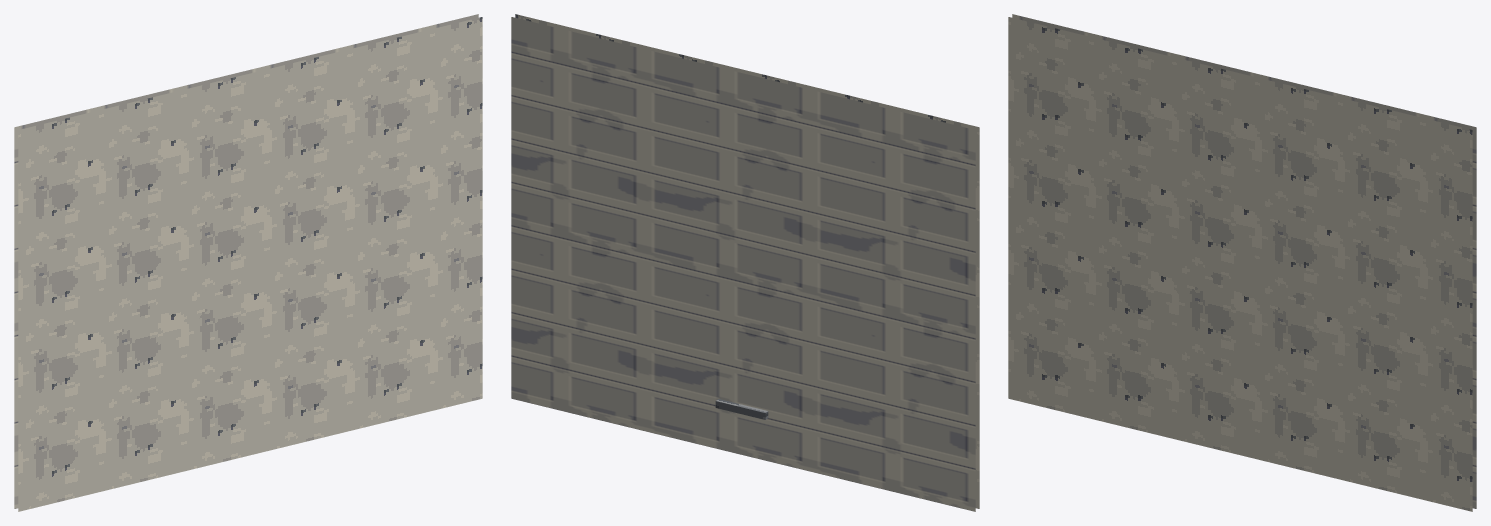
The model's file is RES_IP_GarageDoor_Sectional.obj.
The picture shows the model from 3 angles, left to right: view 1: azimuth 30°, elevation 25°; view 2: azimuth 150°, elevation 25°; view 3: azimuth 330°, elevation 25°; orthographic projection.
Parts seen in each view (by area): view 1: INT_GarageDoor_M_Town_PaintWhite, INT_GarageDoor_M_Res_GarageDoor; view 2: INT_GarageDoor_M_Res_GarageDoor, INT_GarageDoor_M_Town_PaintWhite, INT_GarageDoor_M_Furn_MetalBrushed; view 3: INT_GarageDoor_M_Town_PaintWhite, INT_GarageDoor_M_Res_GarageDoor.
Part boxes in pixels (x1,y1,x2,y2): INT_GarageDoor_M_Town_PaintWhite: (18, 17, 482, 511); INT_GarageDoor_M_Res_GarageDoor: (14, 14, 478, 508); INT_GarageDoor_M_Res_GarageDoor: (511, 17, 975, 511); INT_GarageDoor_M_Town_PaintWhite: (515, 14, 979, 508); INT_GarageDoor_M_Furn_MetalBrushed: (715, 399, 768, 419); INT_GarageDoor_M_Town_PaintWhite: (1008, 17, 1472, 511); INT_GarageDoor_M_Res_GarageDoor: (1012, 14, 1476, 508).
Size of the model in its own units: 2.8 by 2.2 by 0.07.
3 materials, 3 textured.
